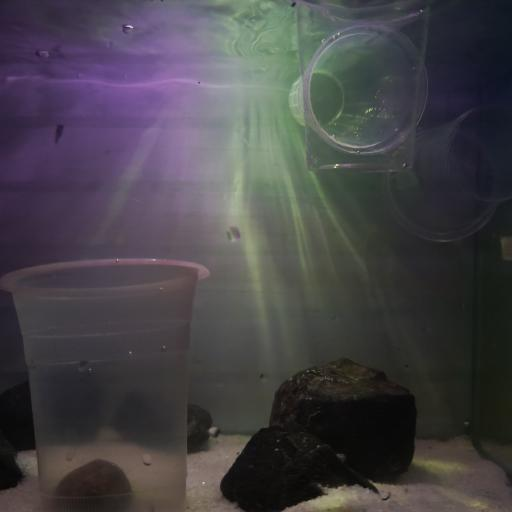plastic_cup: (0, 256, 212, 512), (294, 0, 430, 175), (288, 21, 430, 158), (376, 102, 512, 244)
